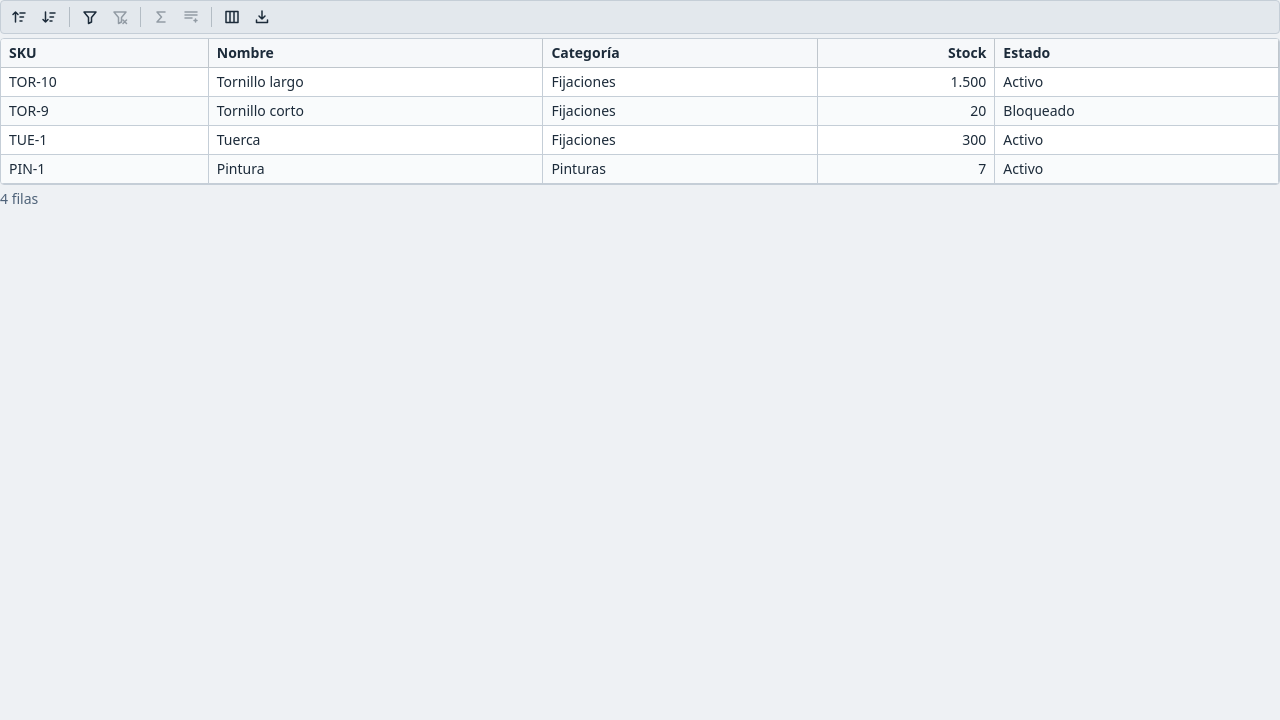
Test: DataGrid en modo local › oculta y reordena columnas desde Modificar disposición
The width and height of the screenshot is (1280, 720).
Click the button named "Modificar disposición" at (232, 17), box x1=218 y1=3 x2=246 y2=31
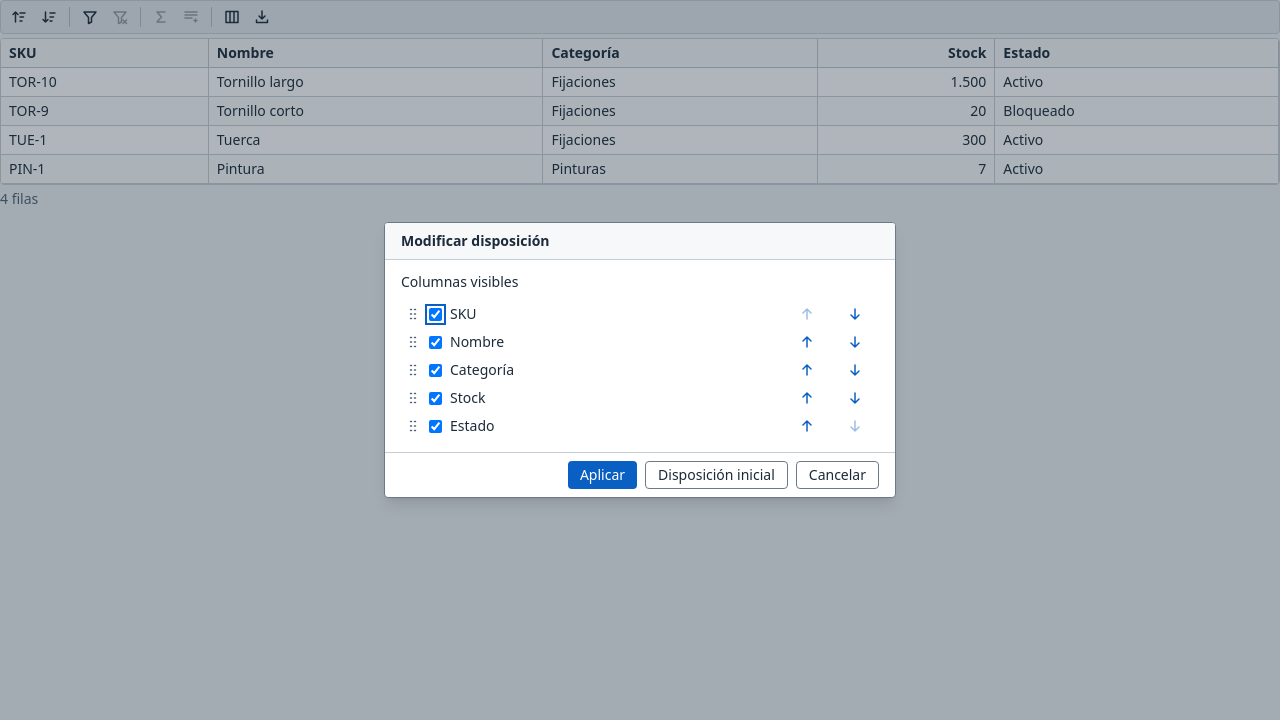
Click the checkbox labelled "Nombre" at (436, 342), box x1=429 y1=336 x2=442 y2=348
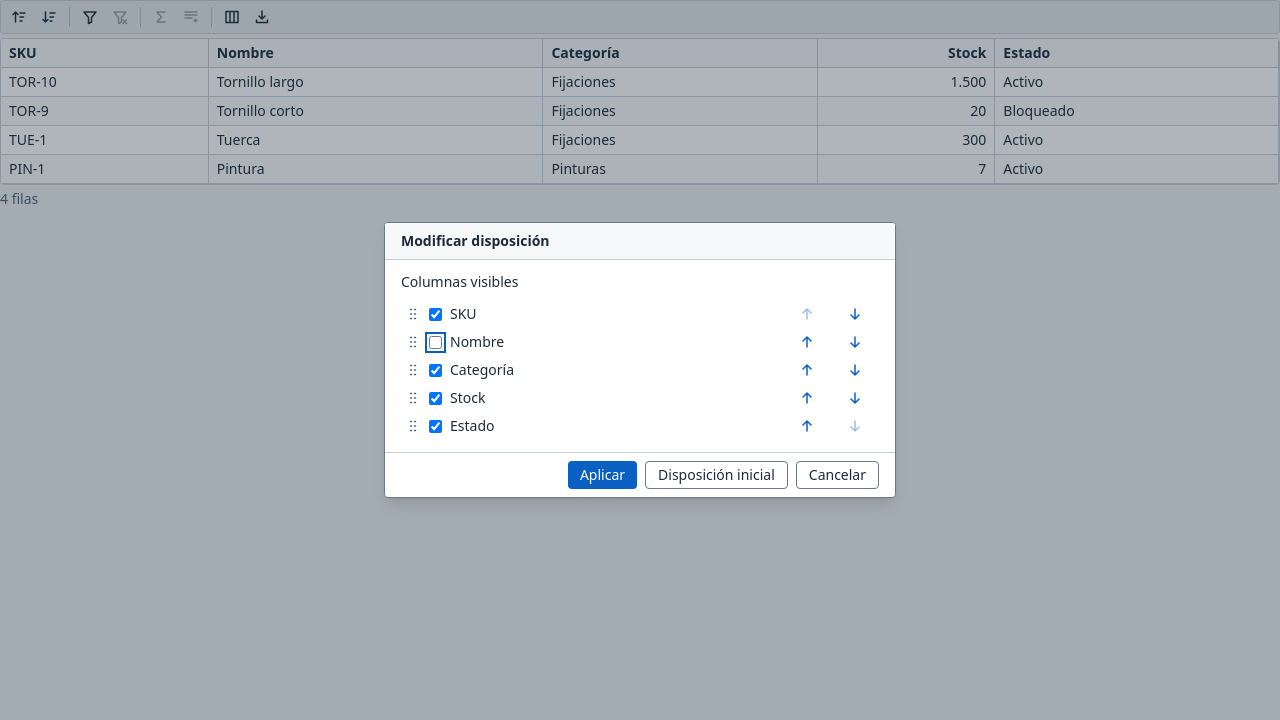
Click the button named "Subir Stock" at (807, 398), box x1=787 y1=384 x2=827 y2=412
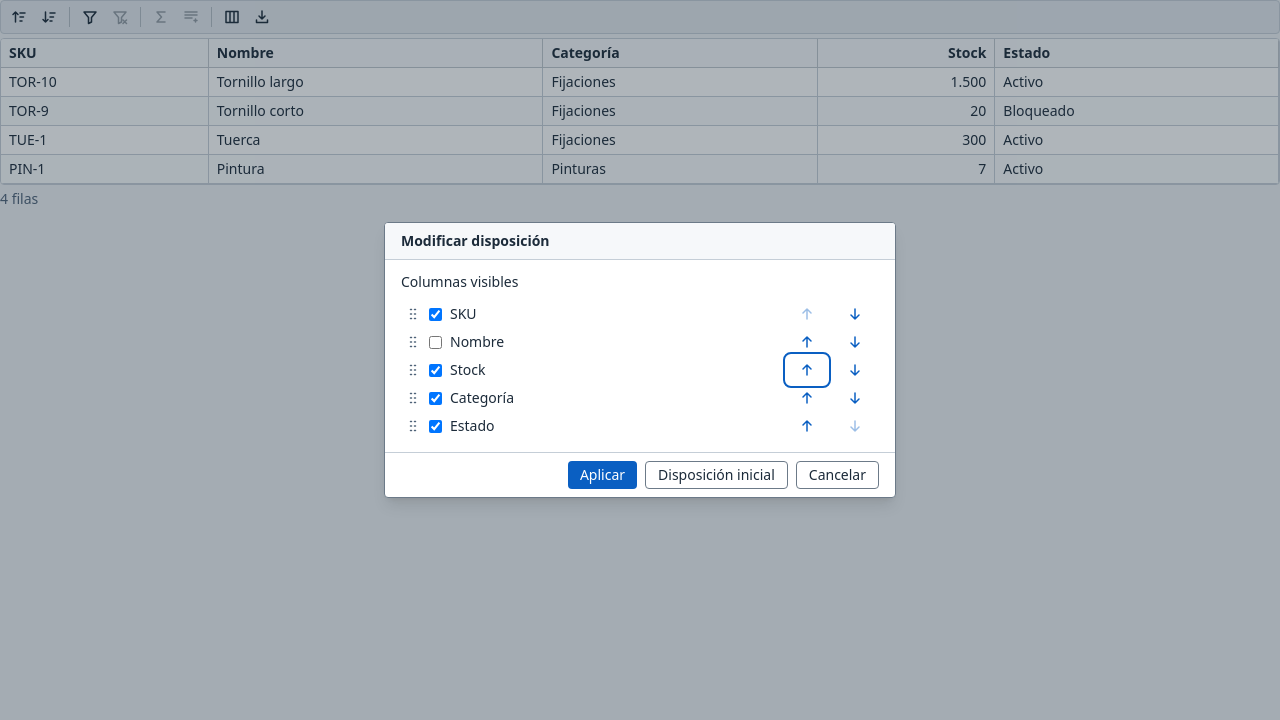
Click the button "Aplicar" at (602, 475), box x1=568 y1=461 x2=637 y2=489
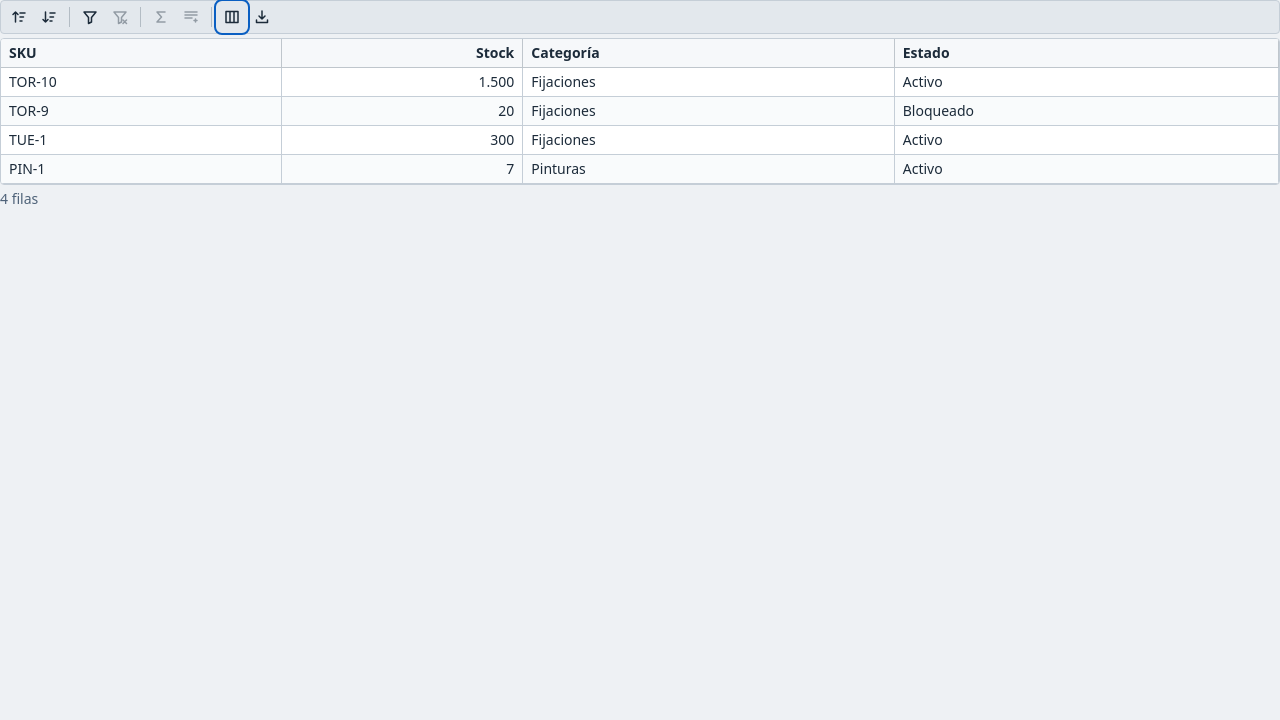
Now the column headings read "SKU", "Stock", "Categoría", "Estado", in this order, box x1=1 y1=39 x2=282 y2=68; x1=282 y1=39 x2=523 y2=68; x1=523 y1=39 x2=895 y2=68; x1=895 y1=39 x2=1279 y2=68
